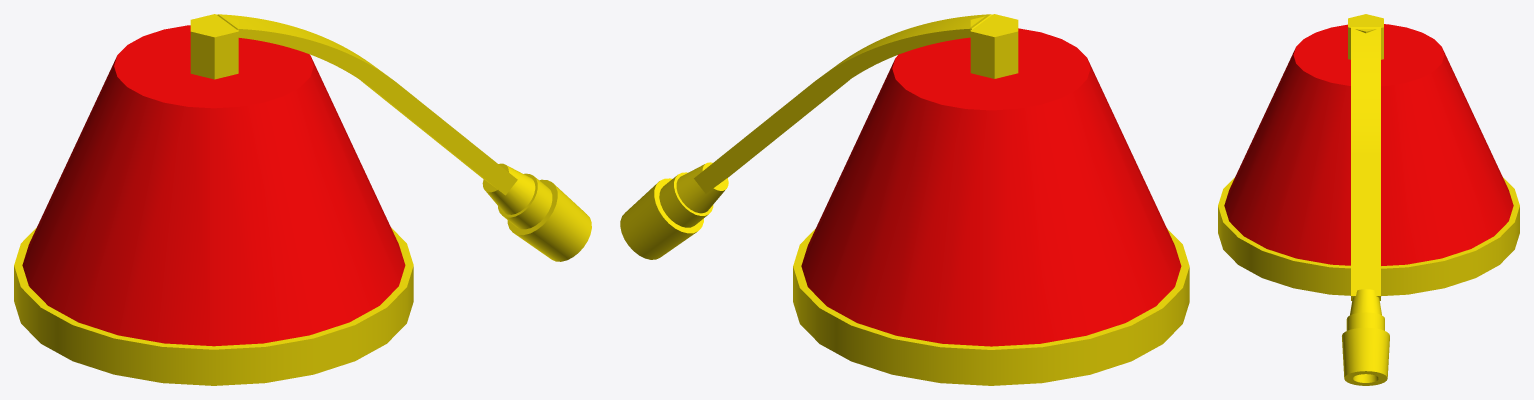
The model's file is Fez.fbx.
The picture shows the model from 3 angles, left to right: view 1: azimuth 30°, elevation 25°; view 2: azimuth 150°, elevation 25°; view 3: azimuth 270°, elevation 25°; orthographic projection. The views are drawn at different scales.
Parts seen in each view (by area): view 1: mergedBlocks; view 2: mergedBlocks; view 3: mergedBlocks.
Boxes of the visible parts, x1=… form: mergedBlocks: x1=14, y1=14, x2=591, y2=385; mergedBlocks: x1=620, y1=14, x2=1189, y2=385; mergedBlocks: x1=1218, y1=14, x2=1519, y2=385.
Size of the model in its own units: 15.72 by 8.75 by 10.
